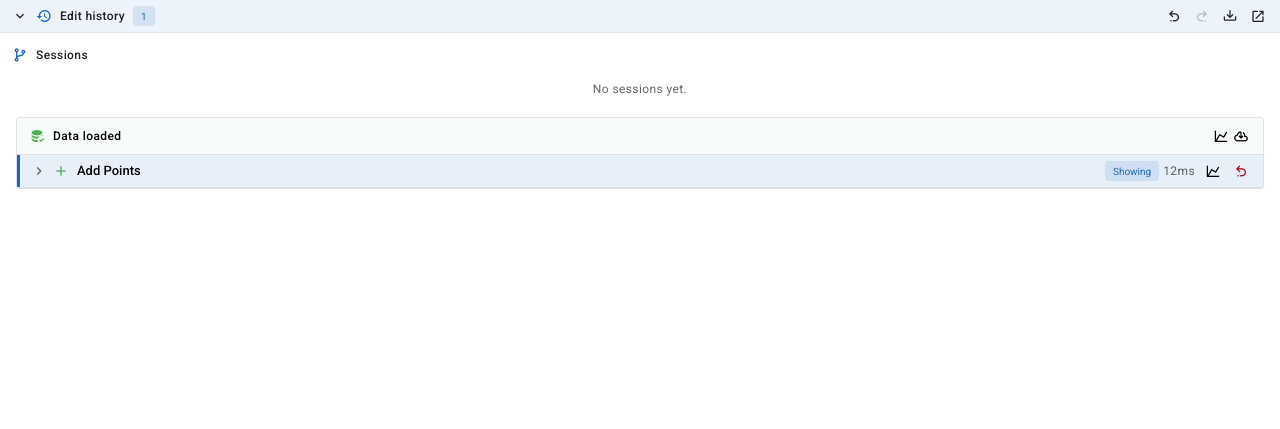
Test: EditHistory.vue › expands and collapses the args drawer
Click the button with class "edit-history__expand": [39, 171] box [29,161,49,181]
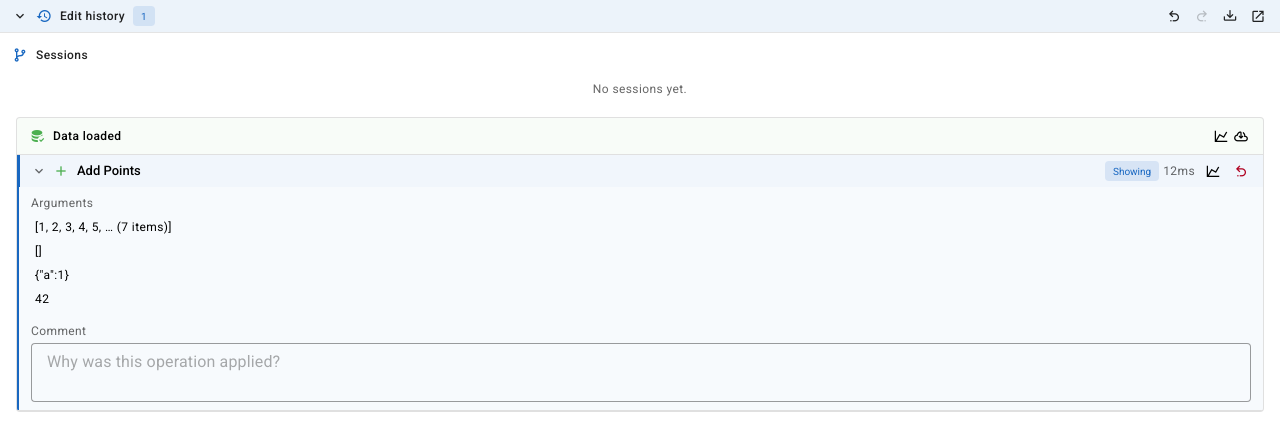
Check: the text "Arguments" is shown, box [31,196,93,210]
Click the button with class "edit-history__expand": [39, 171] box [29,161,49,181]
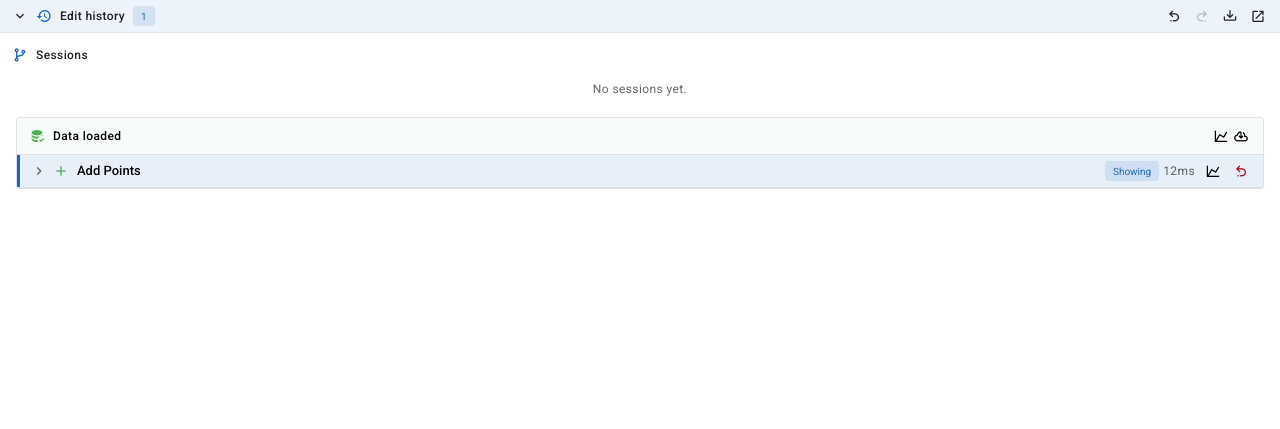
Check: the text "Arguments" is gone
